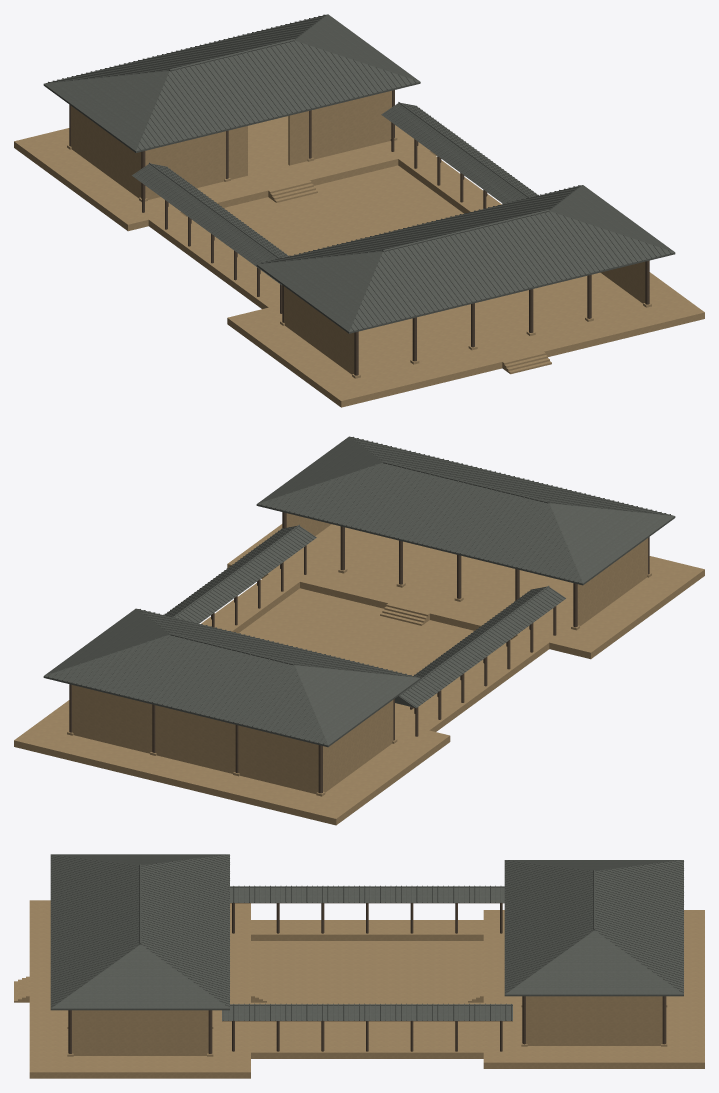
File: yutang-B-LOD0.glb
The picture shows the model from 3 angles, top to bottom: view 1: azimuth 30°, elevation 25°; view 2: azimuth 150°, elevation 25°; view 3: azimuth 270°, elevation 25°; orthographic projection. The views are drawn at different scales.
Parts seen in each view (by area): view 1: yutang-B-static_earth, yutang-B-static_tile, yutang-B-static_timber; view 2: yutang-B-static_earth, yutang-B-static_tile, yutang-B-static_timber; view 3: yutang-B-static_earth, yutang-B-static_tile, yutang-B-static_timber.
Part boxes in pixels (<box>): yutang-B-static_earth: <box>14,90,704,407</box>; yutang-B-static_tile: <box>43,14,675,333</box>; yutang-B-static_timber: <box>69,90,649,375</box>; yutang-B-static_earth: <box>14,513,704,825</box>; yutang-B-static_tile: <box>43,436,675,747</box>; yutang-B-static_timber: <box>69,512,649,793</box>; yutang-B-static_earth: <box>14,900,704,1078</box>; yutang-B-static_tile: <box>50,854,683,1020</box>; yutang-B-static_timber: <box>68,903,666,1053</box>.
Bounding box in the file's own units: 35 × 9.08 × 59.36.
Materials: 3 (3 with a texture image).
